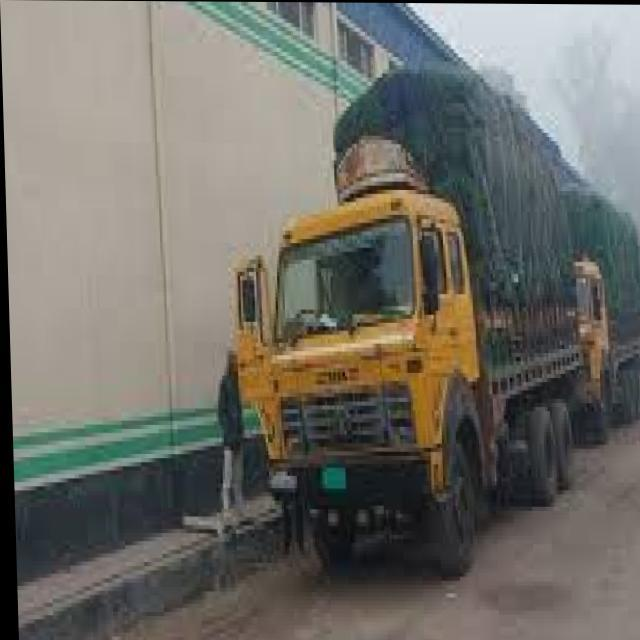covered: (252, 64, 574, 566), (551, 180, 640, 446)
